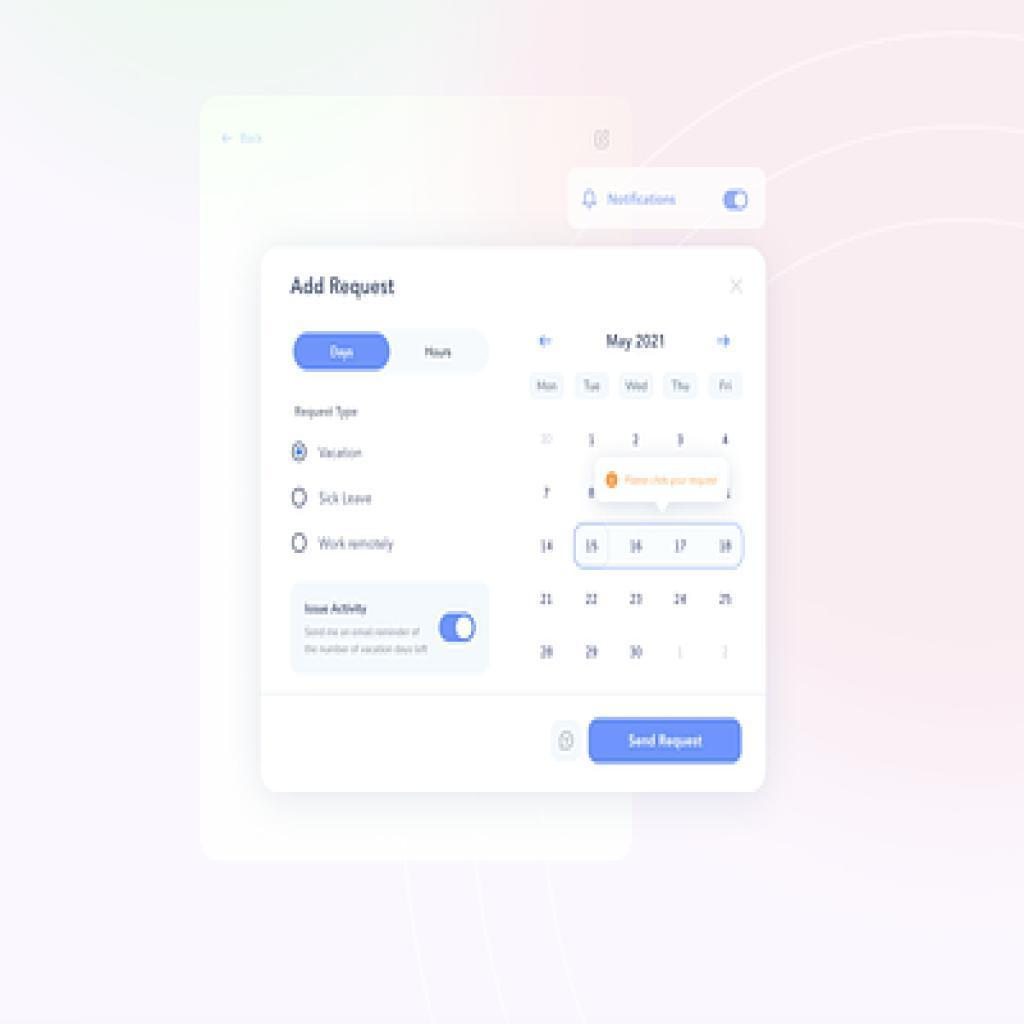button: (589, 717, 744, 765), (393, 329, 489, 375), (294, 330, 392, 374)
label: (288, 273, 401, 299), (314, 534, 397, 558), (605, 187, 682, 209), (302, 599, 371, 621), (293, 404, 362, 422), (317, 488, 377, 508), (316, 445, 365, 462)
radio: (290, 439, 311, 466), (290, 485, 309, 512), (291, 533, 310, 555)
switch: (439, 613, 478, 644), (723, 189, 749, 212)
